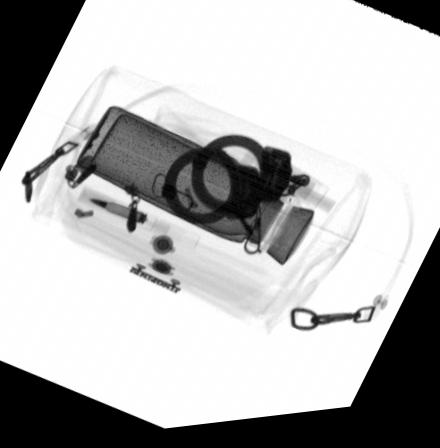Bullet: (90, 199, 148, 229)
HandCuffs: (160, 139, 314, 231)
